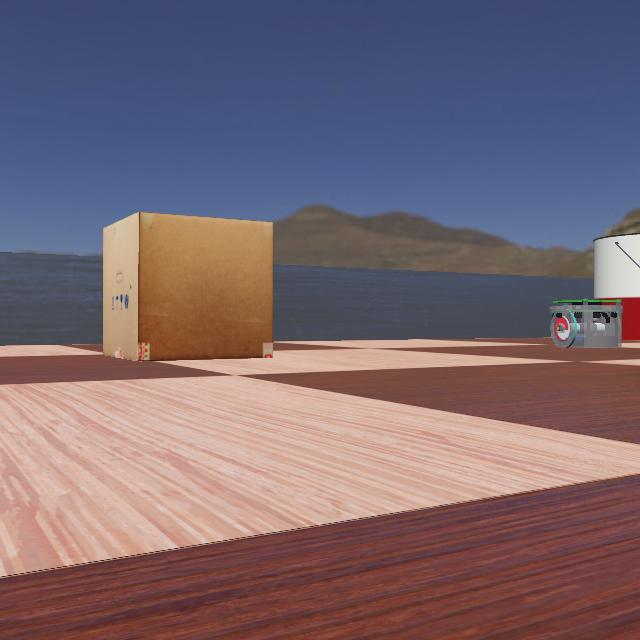cardboard-box: (63, 211, 279, 361)
paint-bucket: (574, 228, 640, 342), (574, 228, 640, 342)
